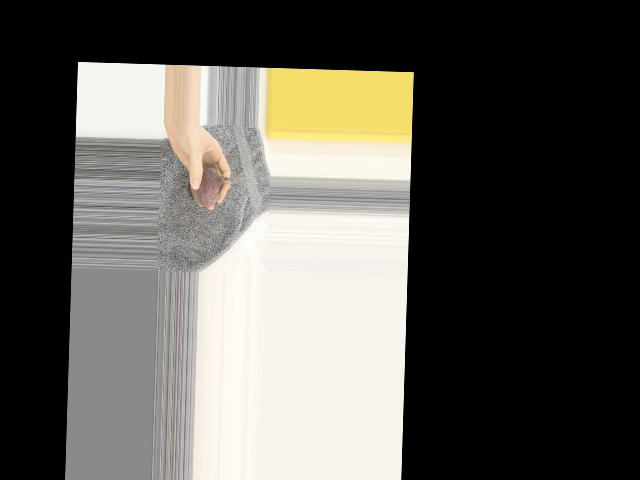beet: (186, 165, 248, 208)
